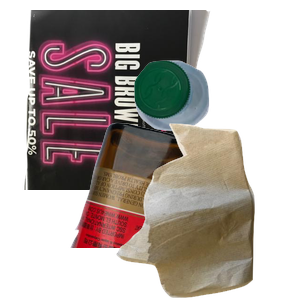glass: (68, 120, 255, 300)
paper: (22, 10, 225, 190)
plastic: (132, 58, 300, 182)
trash: (114, 121, 300, 300)
